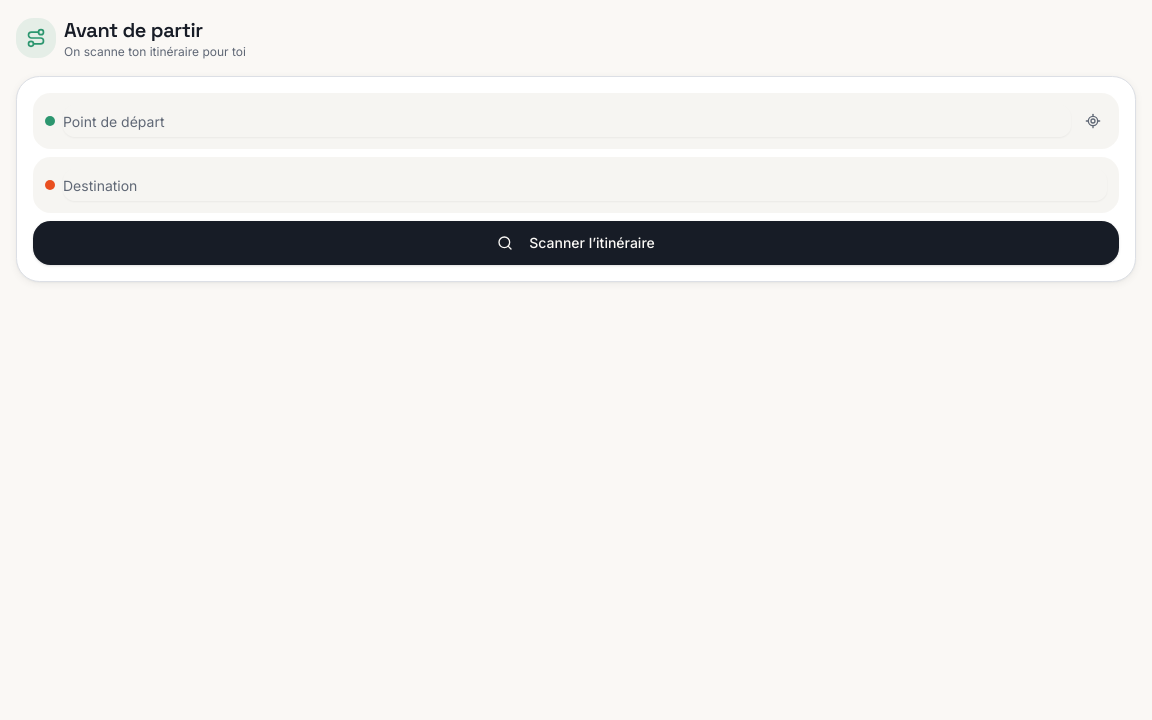
it: Trajet surfaces historical risk zones from a scan
The image size is (1152, 720).
Type "Cocody" into the field with placeholder "Point de départ" at (567, 121), box top-left (63, 105), bottom-right (1071, 137)
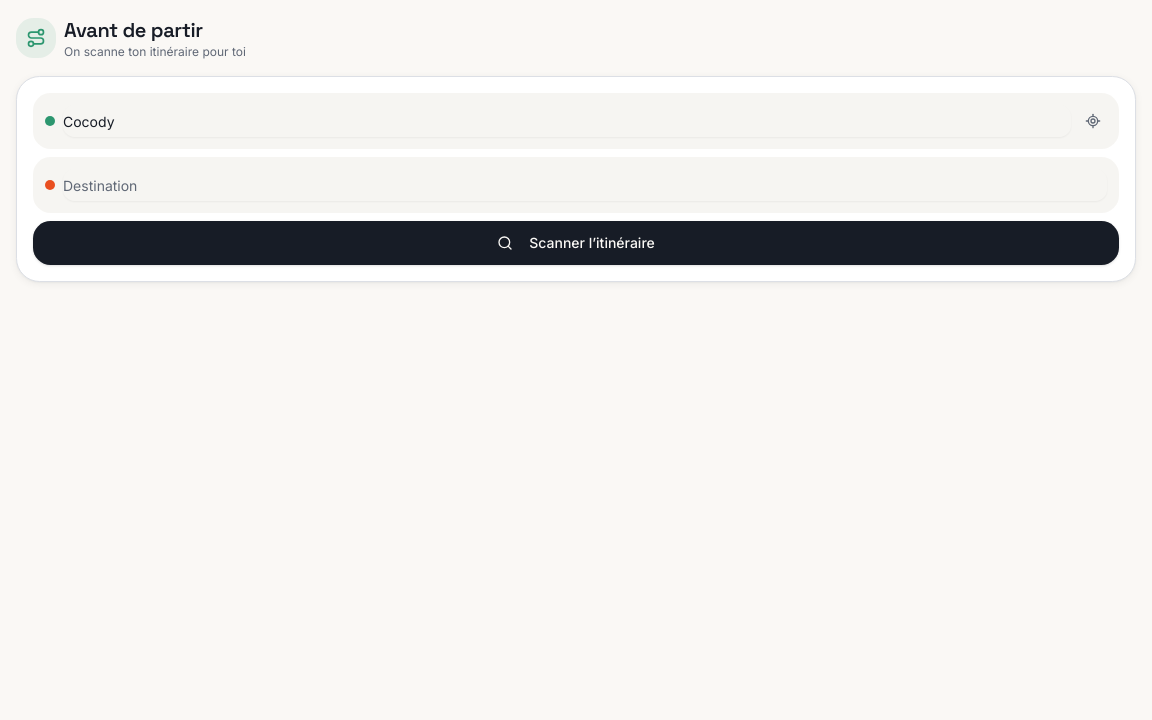
Type "Plateau" into the field with placeholder "Destination" at (585, 185), box top-left (63, 169), bottom-right (1107, 201)
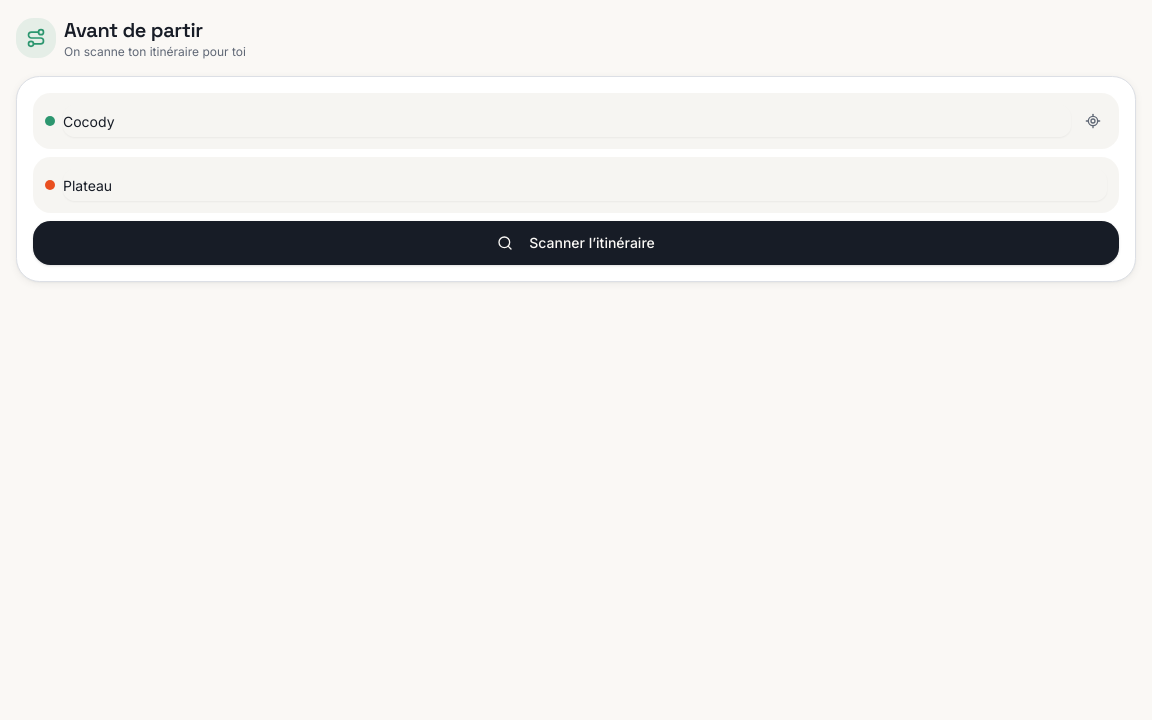
Click the button "Scanner l’itinéraire" at (576, 243), box top-left (33, 221), bottom-right (1119, 265)
(page scrolled)
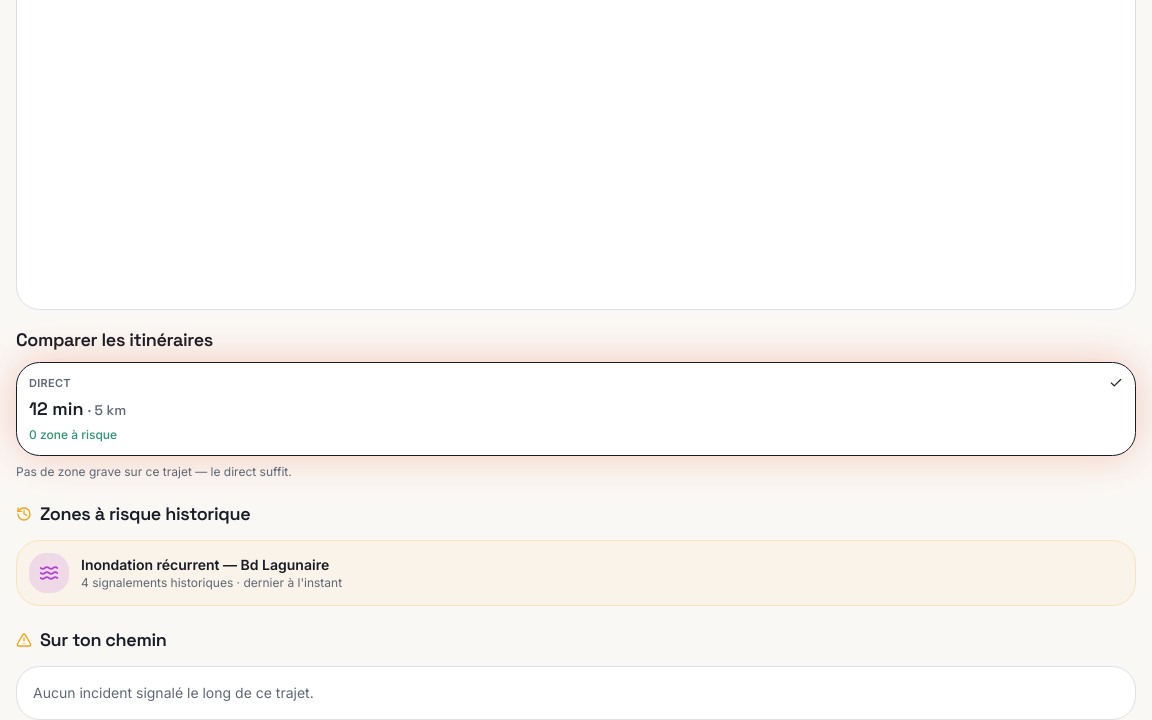
Check: the heading "Zones à risque historique" is shown, box top-left (16, 502), bottom-right (250, 525)
Check: the text "Inondation récurrent — Bd Lagunaire" is shown, box top-left (81, 556), bottom-right (329, 573)
Check: the text "4 signalements historiques · dernier à l'instant" is shown, box top-left (81, 575), bottom-right (342, 590)
